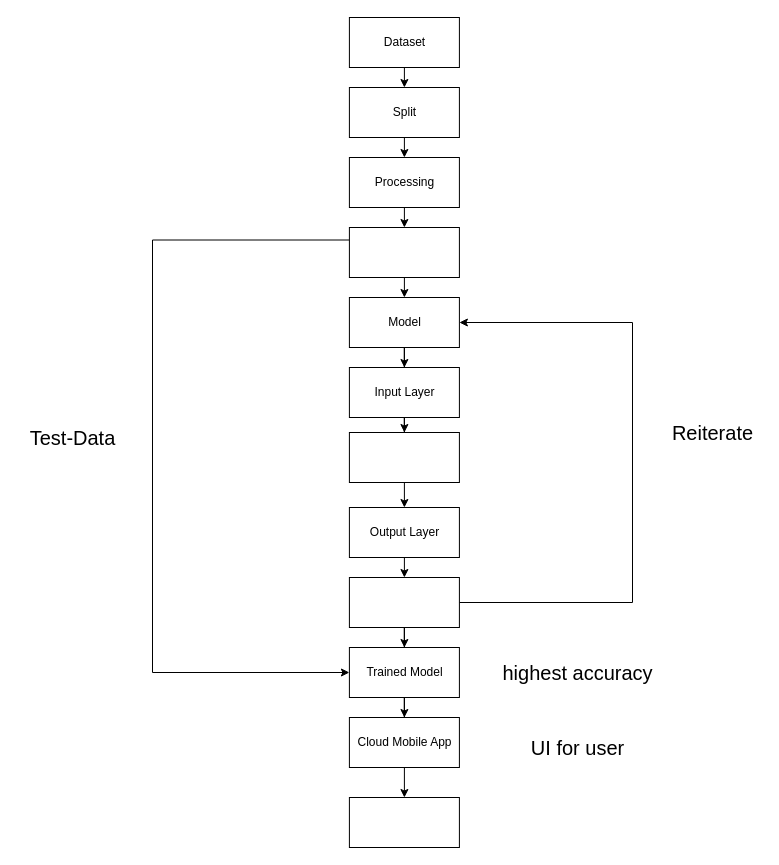
Image size: 779x865. Some labels were removed from this diagram. The centre of each missing label's shape, as x and y in pixels:
"Generator" belongs at [403,252].
"Hidden Layer" belongs at [403,457].
"Metrics" belongs at [403,602].
"User" belongs at [403,822].
